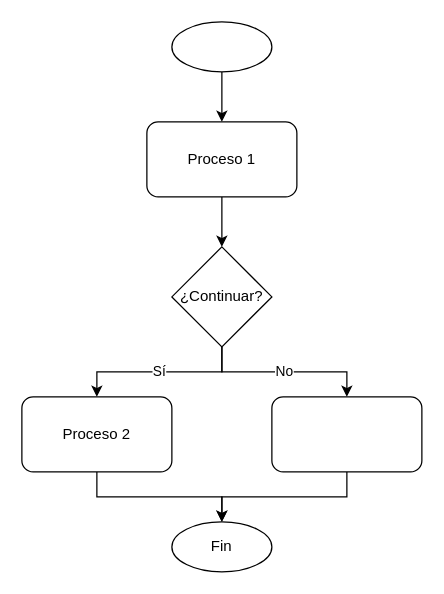
Some shapes in this 444 by 594 pixel diagram are drawn without their labels. The shapes that lost their labels are listed below. From the top down, each one's centre as x and y in pixels, then its label:
At point (221, 46): "Inicio".
At point (346, 434): "Proceso 3".
